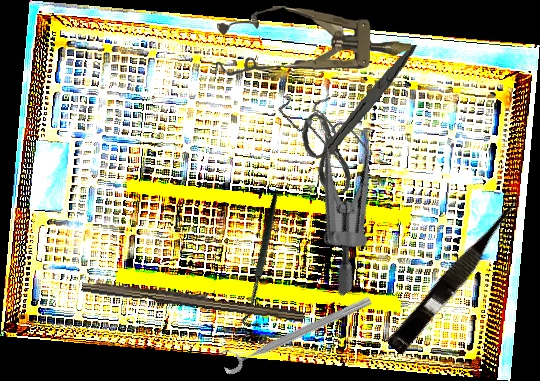Fixation Ring: (216, 284, 375, 377)
Hook Surgical: (196, 189, 334, 333)
Iris Scissors: (297, 35, 419, 199)
Micro Scissor: (385, 193, 531, 359)
Scalpel Handle: (80, 277, 306, 323)
Speculum: (220, 72, 434, 299), (215, 4, 412, 84)
